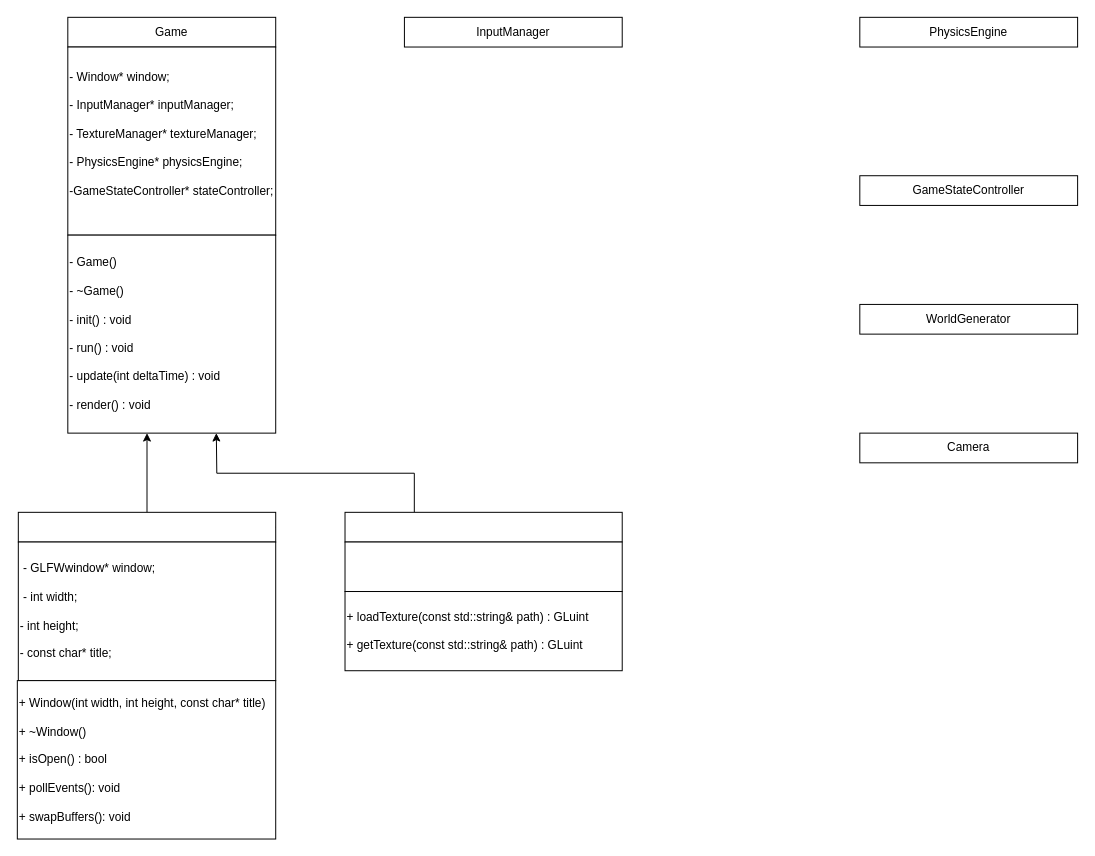
Image size: 1095x856. Some labels were removed from this diagram. Each missing label, with the box of its shape:
- std::unordered_map<std::string, GLuint> textures: (344, 541, 622, 592)
TextureManager: (344, 511, 622, 542)
Window: (17, 511, 276, 542)
